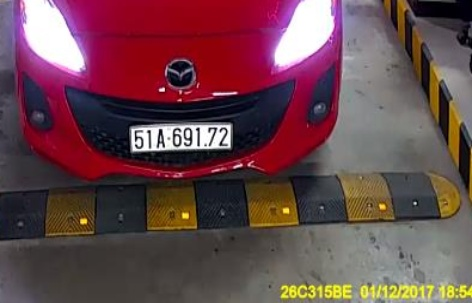plate: (127, 121, 236, 152)
